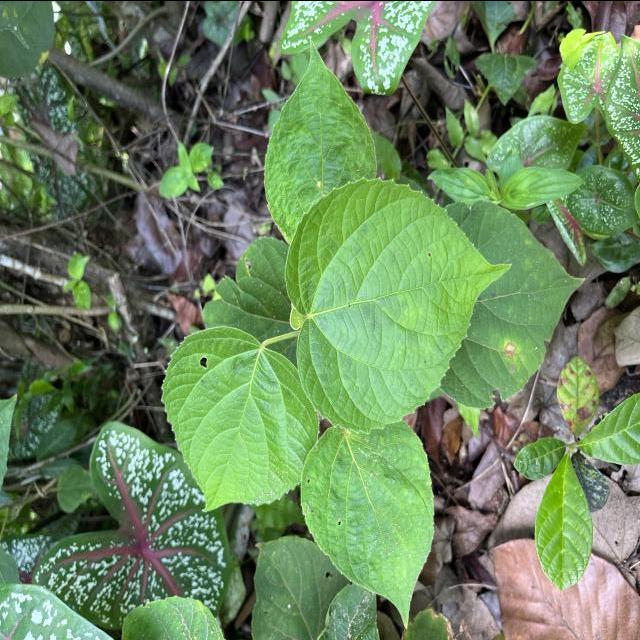Clerodendrum infortunatum: (283, 173, 514, 434), (438, 197, 588, 410), (159, 323, 321, 514), (299, 418, 436, 630), (263, 34, 378, 248)
